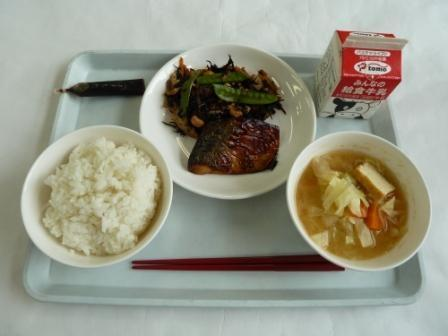Fish: (192, 116, 284, 190)
Milk: (314, 24, 417, 126)
Rice: (21, 124, 157, 266)
Soups: (289, 128, 423, 264)
salad with sauce: (166, 55, 275, 119)
